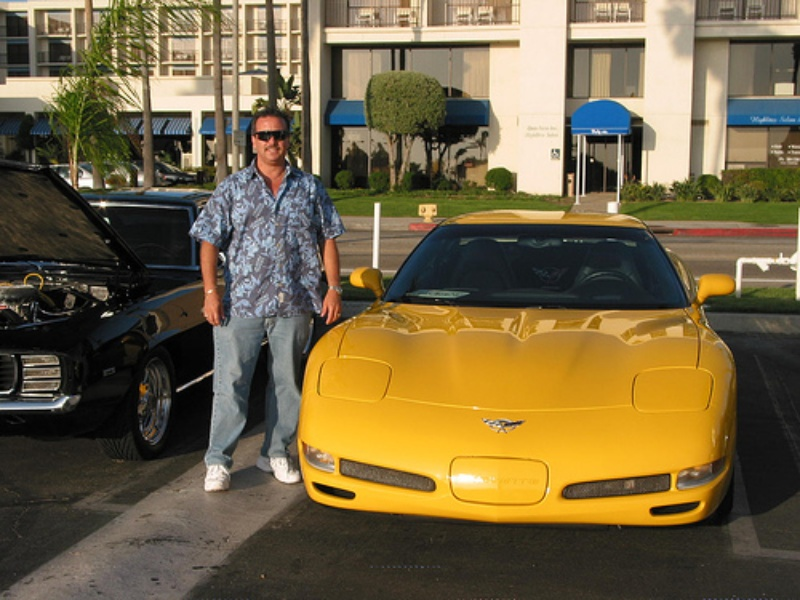car: (297, 209, 737, 525), (1, 161, 216, 459)
person: (188, 110, 346, 490)
